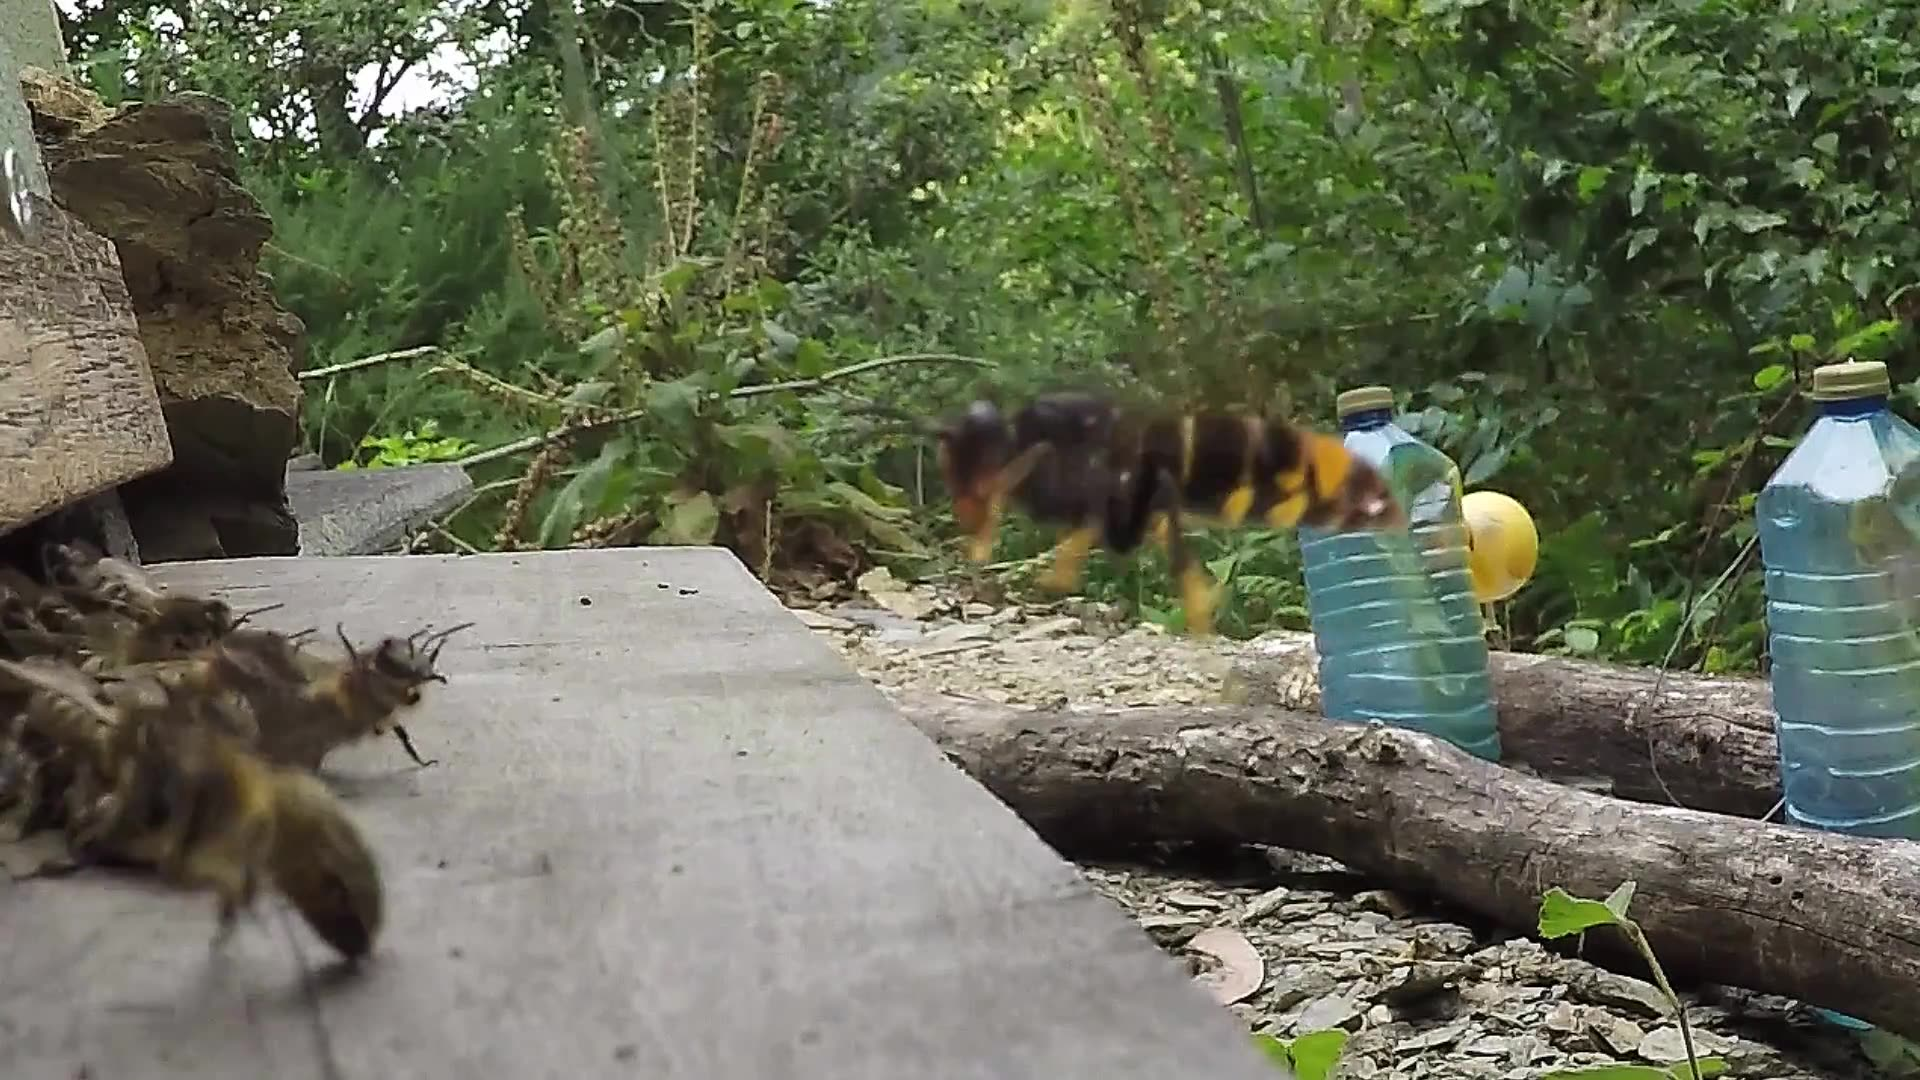bee: (1, 531, 462, 977)
hornet: (939, 369, 1379, 597)
